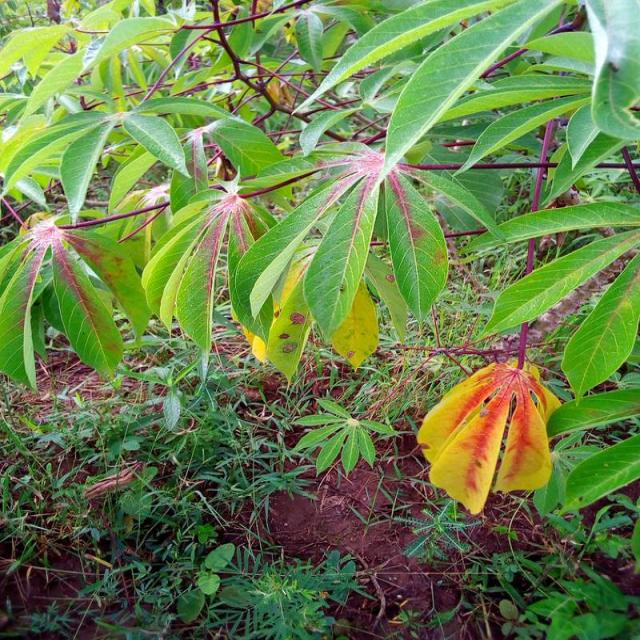Mosaico: (308, 127, 463, 288), (425, 349, 559, 518), (11, 211, 135, 359), (257, 246, 388, 377), (189, 184, 268, 302)
